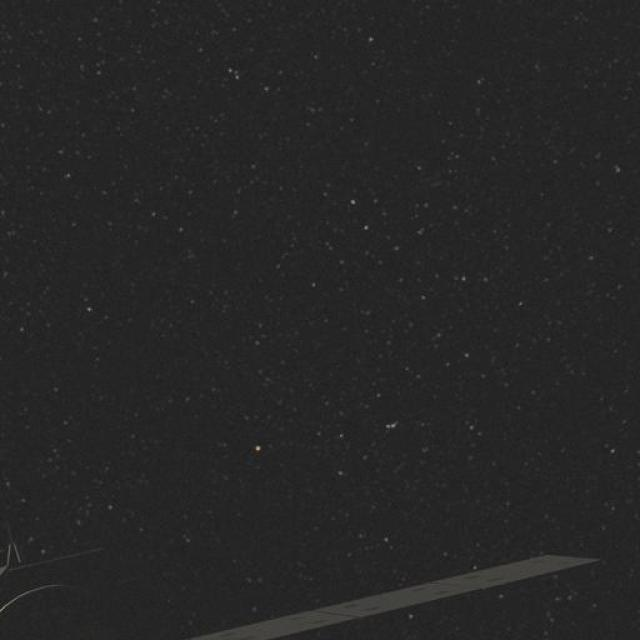xmm_newton: (0, 510, 554, 640)
